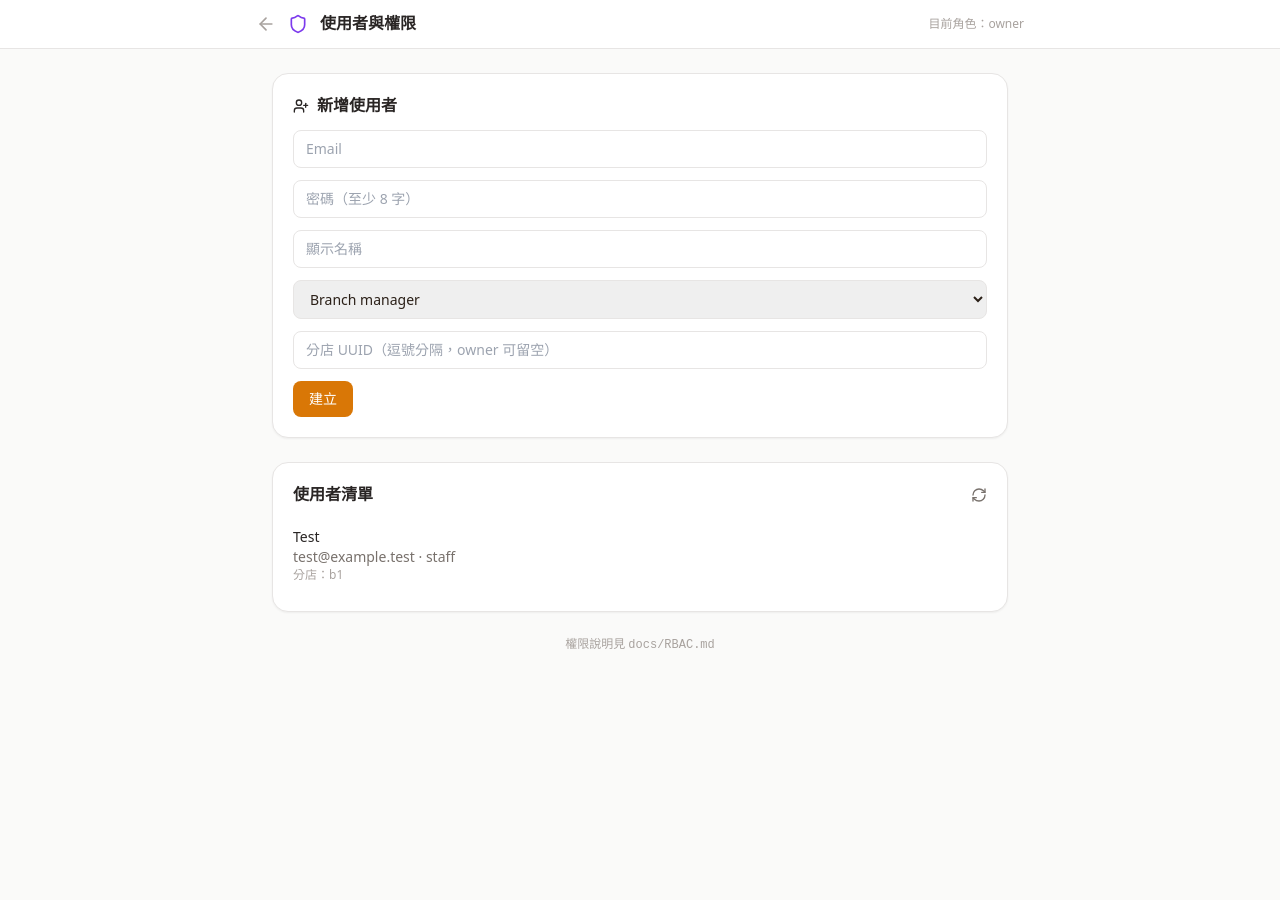
it: admin user creation recovery › locks the original account details during a delayed request and preserves its password-free summary if unknown
This screenshot has width=1280, height=900.
Type "new@example.test" into the field with placeholder "Email" at (640, 149), box [293, 130, 987, 168]
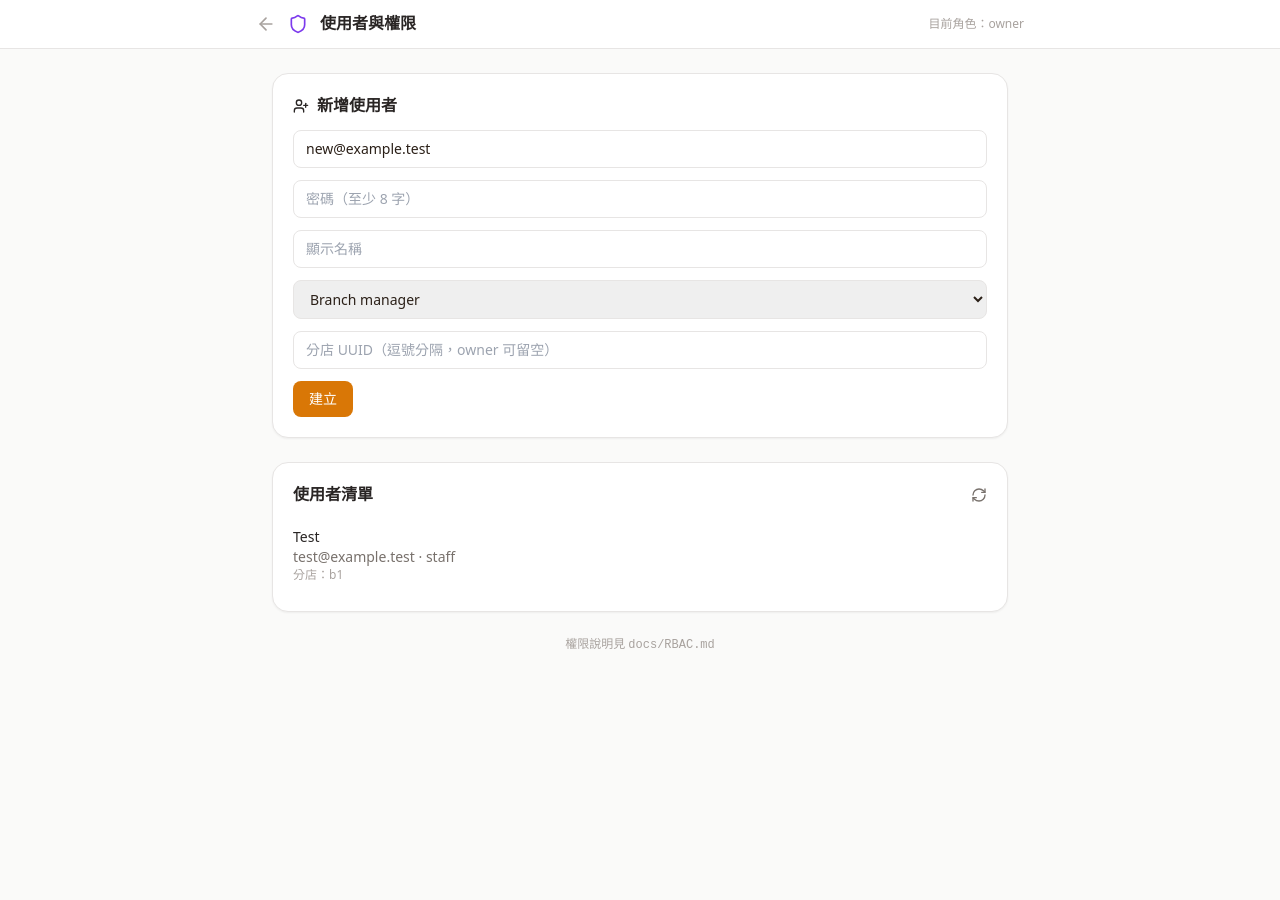
Type "test-password" into the password field with placeholder "密碼（至少 8 字）" at (640, 199), box [293, 180, 987, 218]
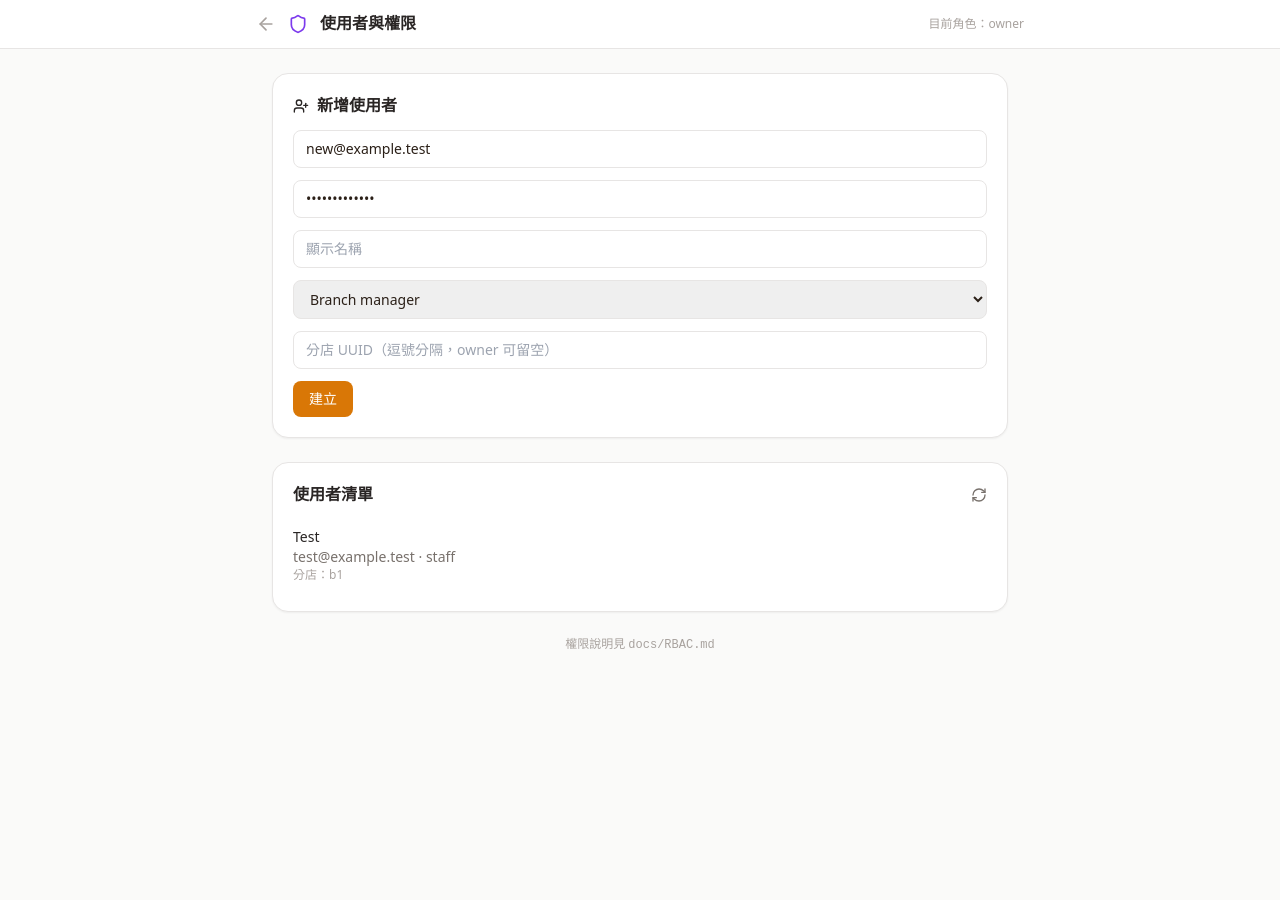
Type "b1" into the field with placeholder "分店 UUID（逗號分隔，owner 可留空）" at (640, 350), box [293, 331, 987, 369]
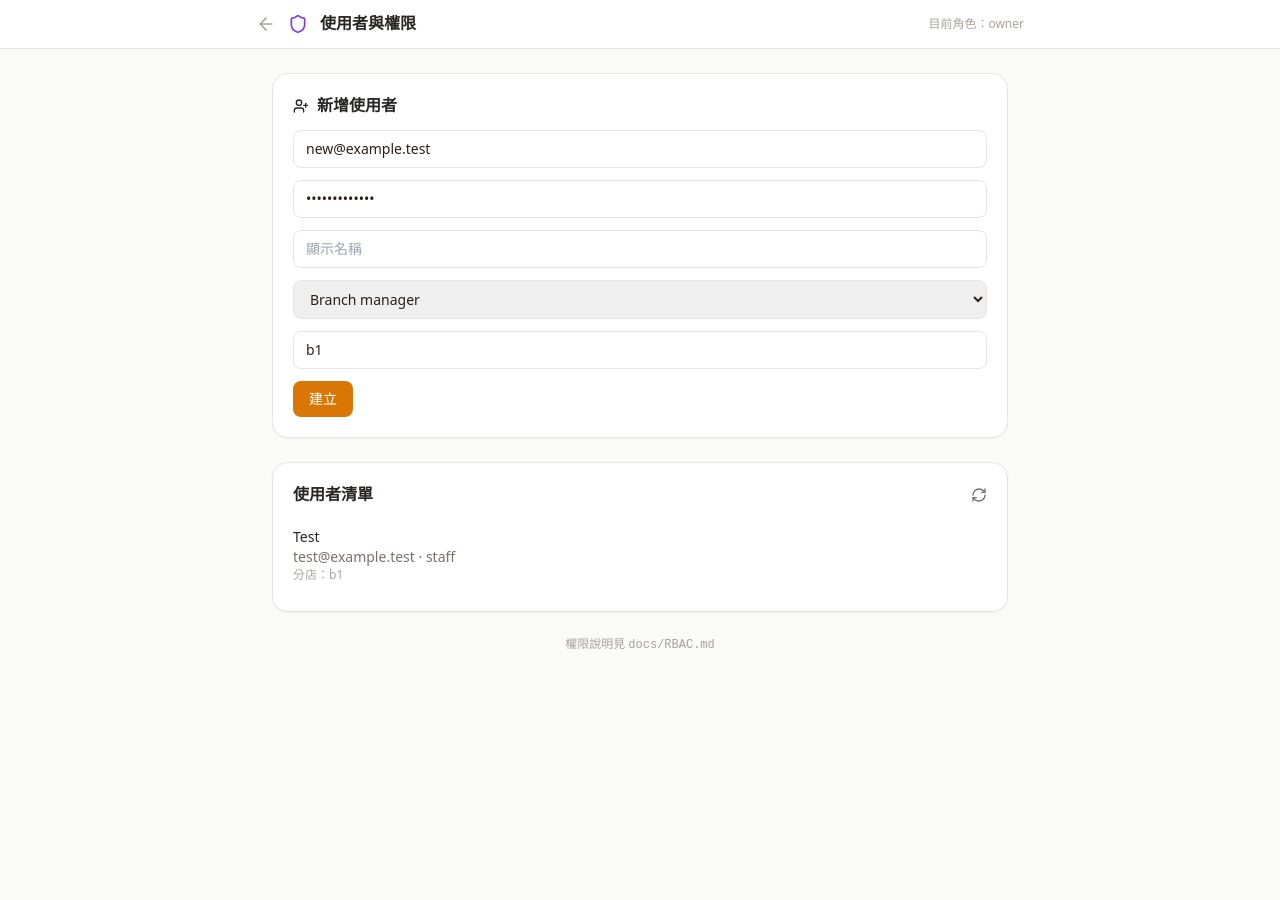
Type "Original User" into the field with placeholder "顯示名稱" at (640, 249), box [293, 230, 987, 268]
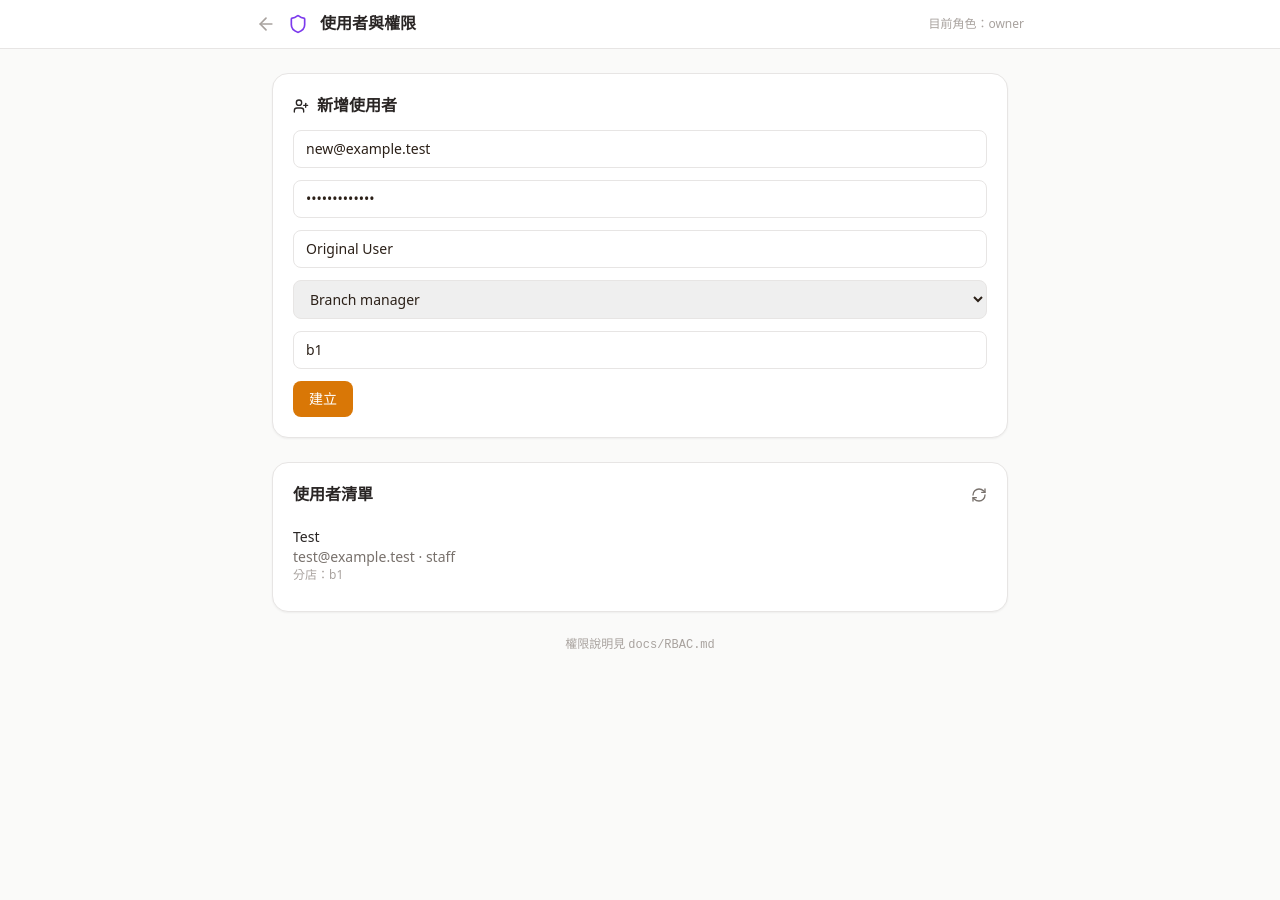
Click the button "建立" at (323, 399), box [293, 381, 353, 417]
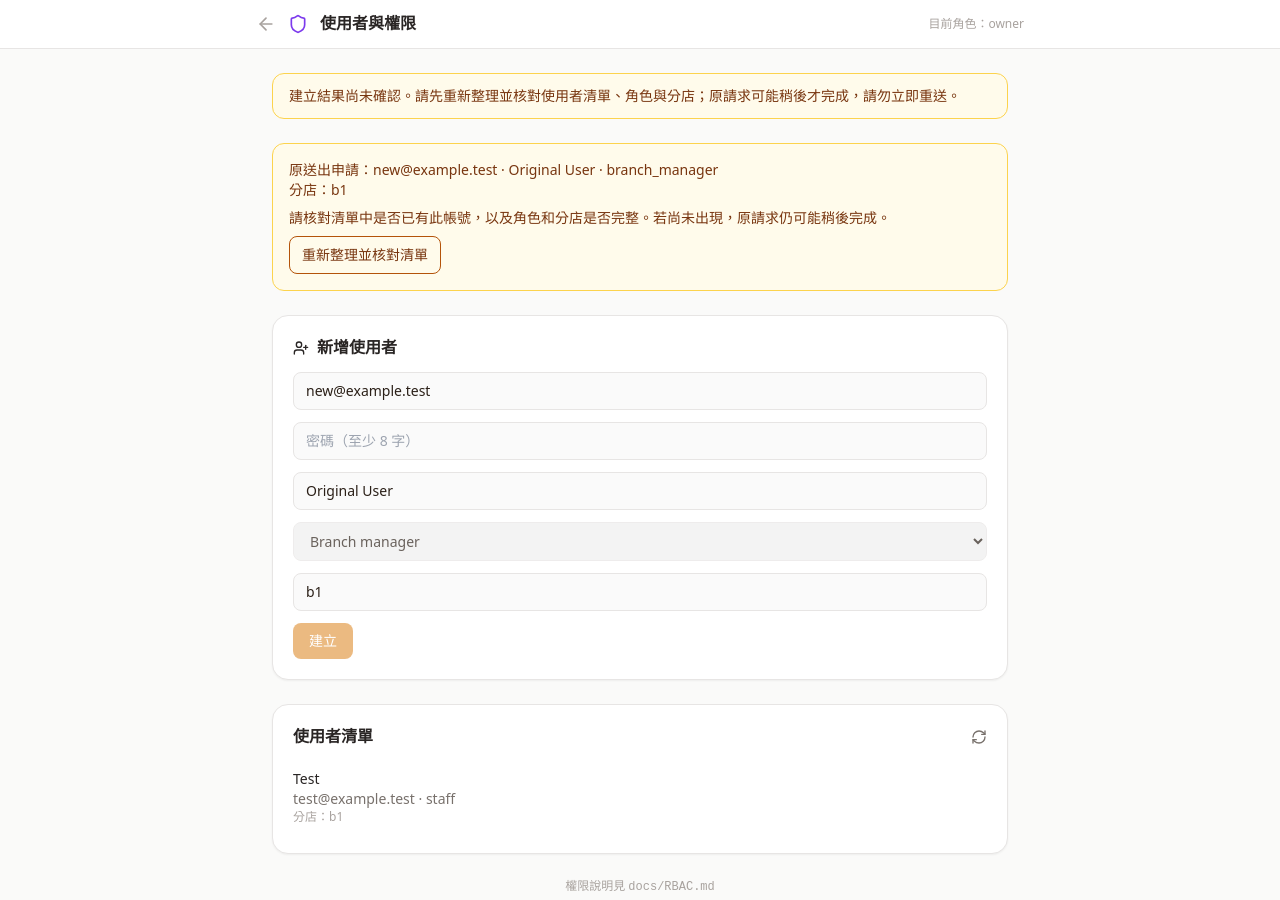
Check: the 2nd field with placeholder "顯示名稱" is disabled, box [293, 472, 987, 510]
Check: the 3rd field with placeholder "分店 UUID（逗號分隔，owner 可留空）" is disabled, box [293, 573, 987, 611]
Check: the dropdown is disabled, box [293, 522, 987, 561]
